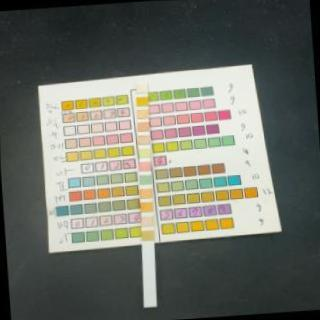mark: (142, 230, 154, 240), (142, 216, 154, 226), (141, 202, 153, 212), (140, 188, 152, 198), (140, 174, 152, 184), (139, 161, 151, 171), (138, 148, 150, 158), (138, 135, 150, 145), (137, 122, 149, 132), (136, 110, 148, 119), (137, 96, 147, 106), (137, 84, 147, 92)
